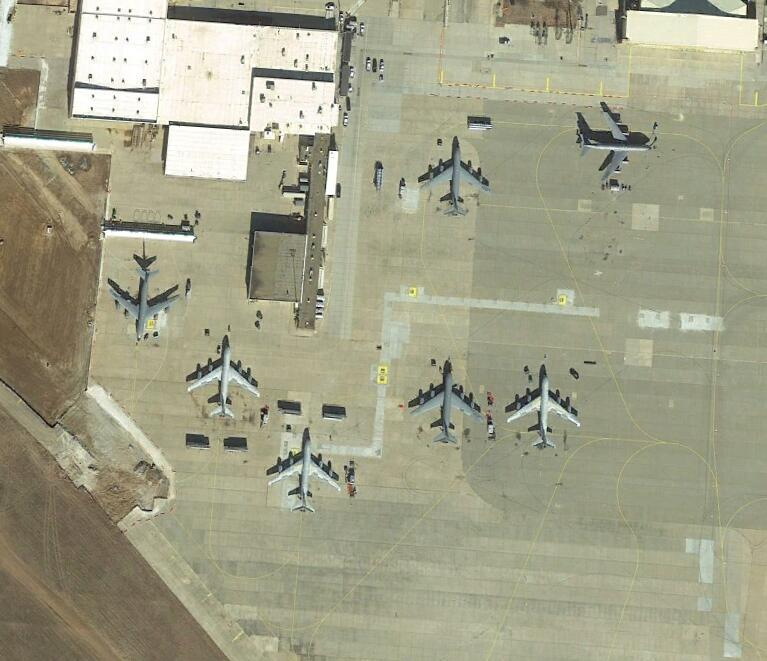A11: (184, 339, 262, 420), (266, 432, 343, 514), (505, 371, 581, 451)
A14: (407, 367, 484, 444), (106, 264, 182, 341), (575, 107, 650, 183), (420, 141, 493, 217)
